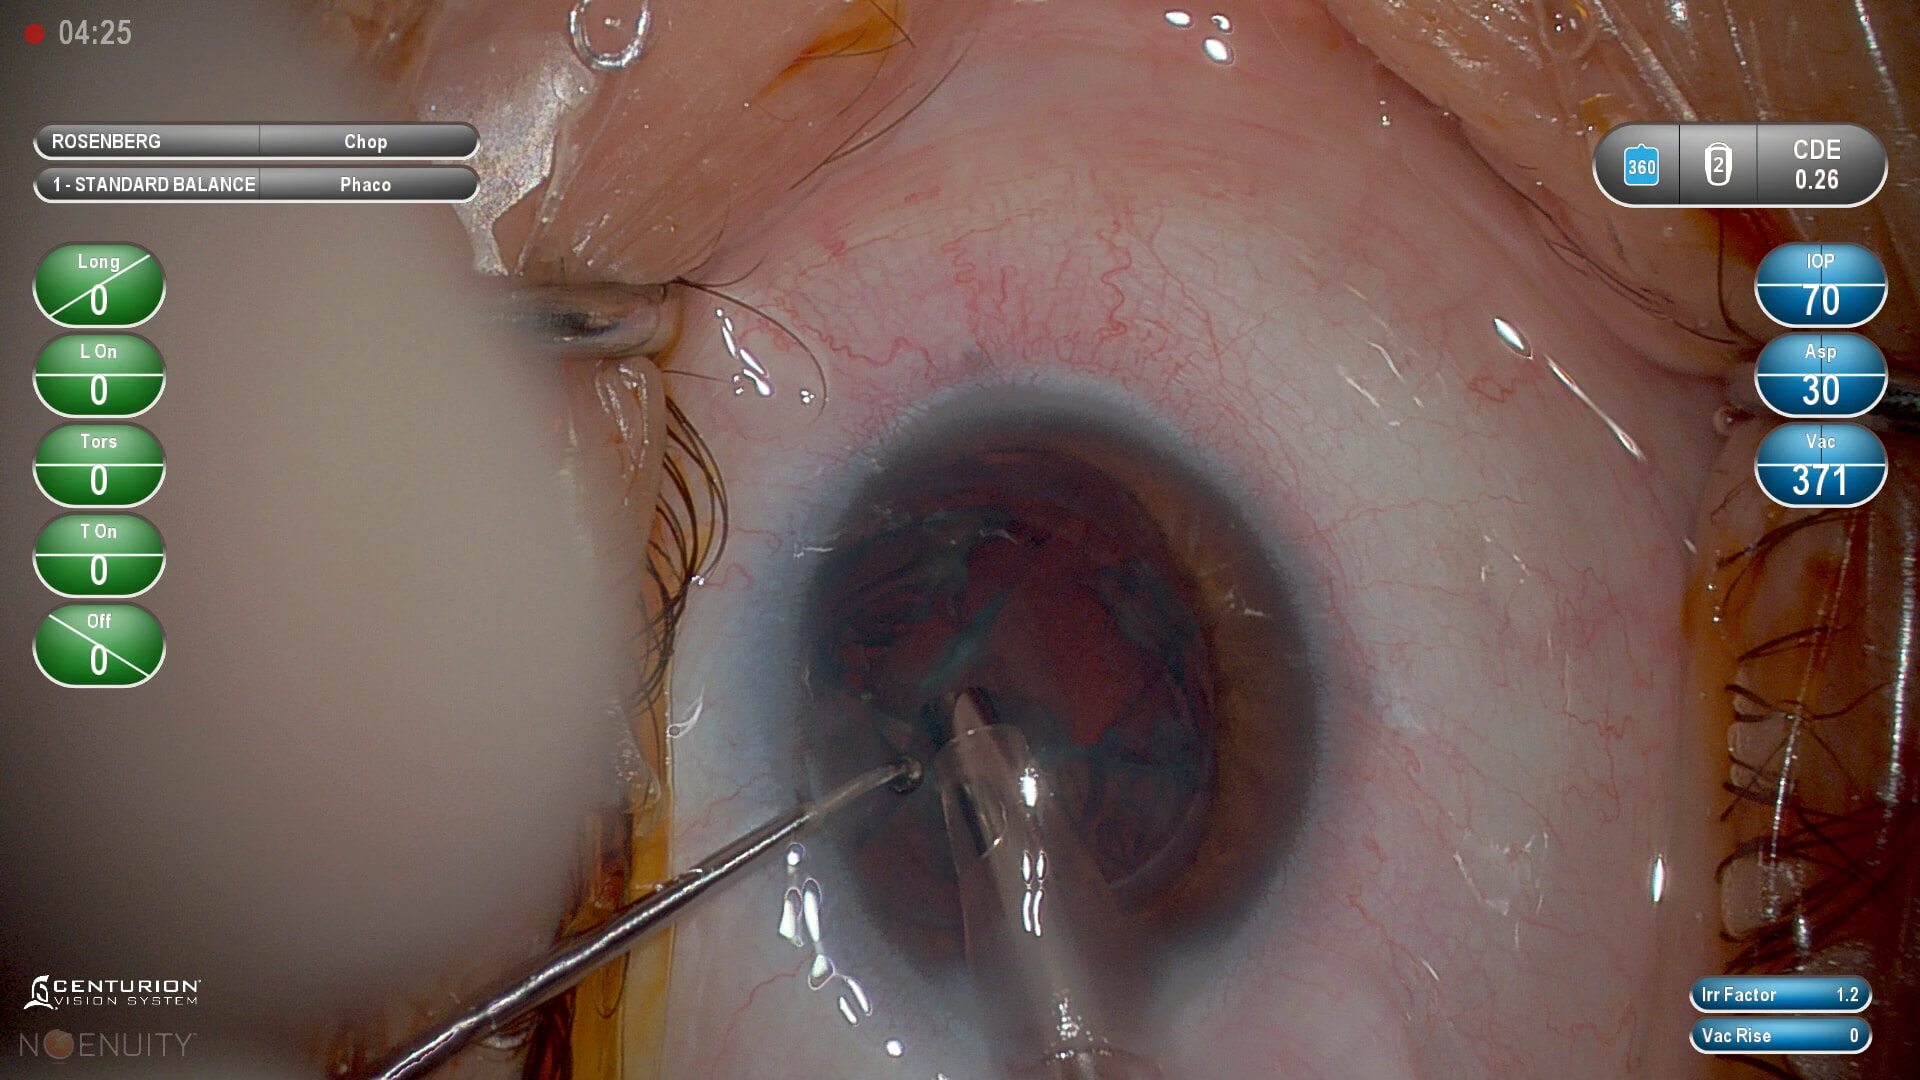iris: (786, 421, 1318, 978)
pupil: (813, 451, 1216, 917)
